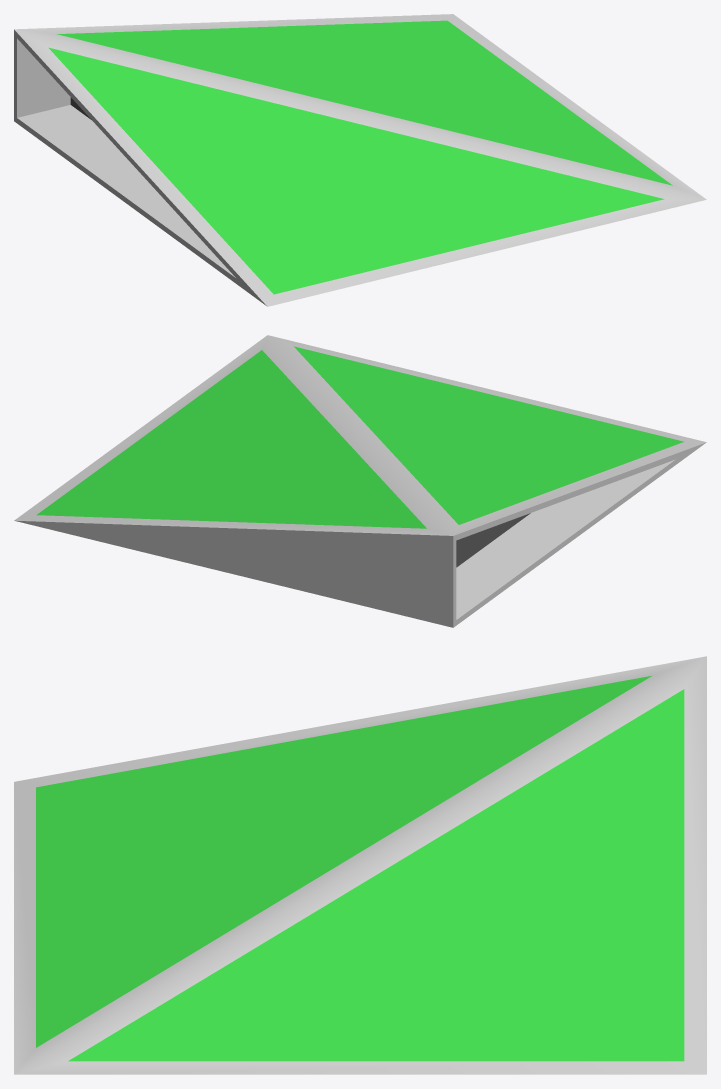
The model's file is FloorBasic00_2.5x2.5RampCorner.fbx.
3 renders of one model, top to bottom at view 1: azimuth 30°, elevation 25°; view 2: azimuth 150°, elevation 25°; view 3: azimuth 270°, elevation 25°, orthographic. The views are drawn at different scales.
Parts seen in each view (by area): view 1: FloorBasic00_2.5x2.5RampCorner; view 2: FloorBasic00_2.5x2.5RampCorner; view 3: FloorBasic00_2.5x2.5RampCorner.
Part boxes in pixels (box(x1,y1,x2,y2)): FloorBasic00_2.5x2.5RampCorner: box(14, 14, 706, 306); FloorBasic00_2.5x2.5RampCorner: box(14, 335, 706, 627); FloorBasic00_2.5x2.5RampCorner: box(14, 656, 706, 1074).
Bounding box in the file's own units: 250 × 50 × 250.
